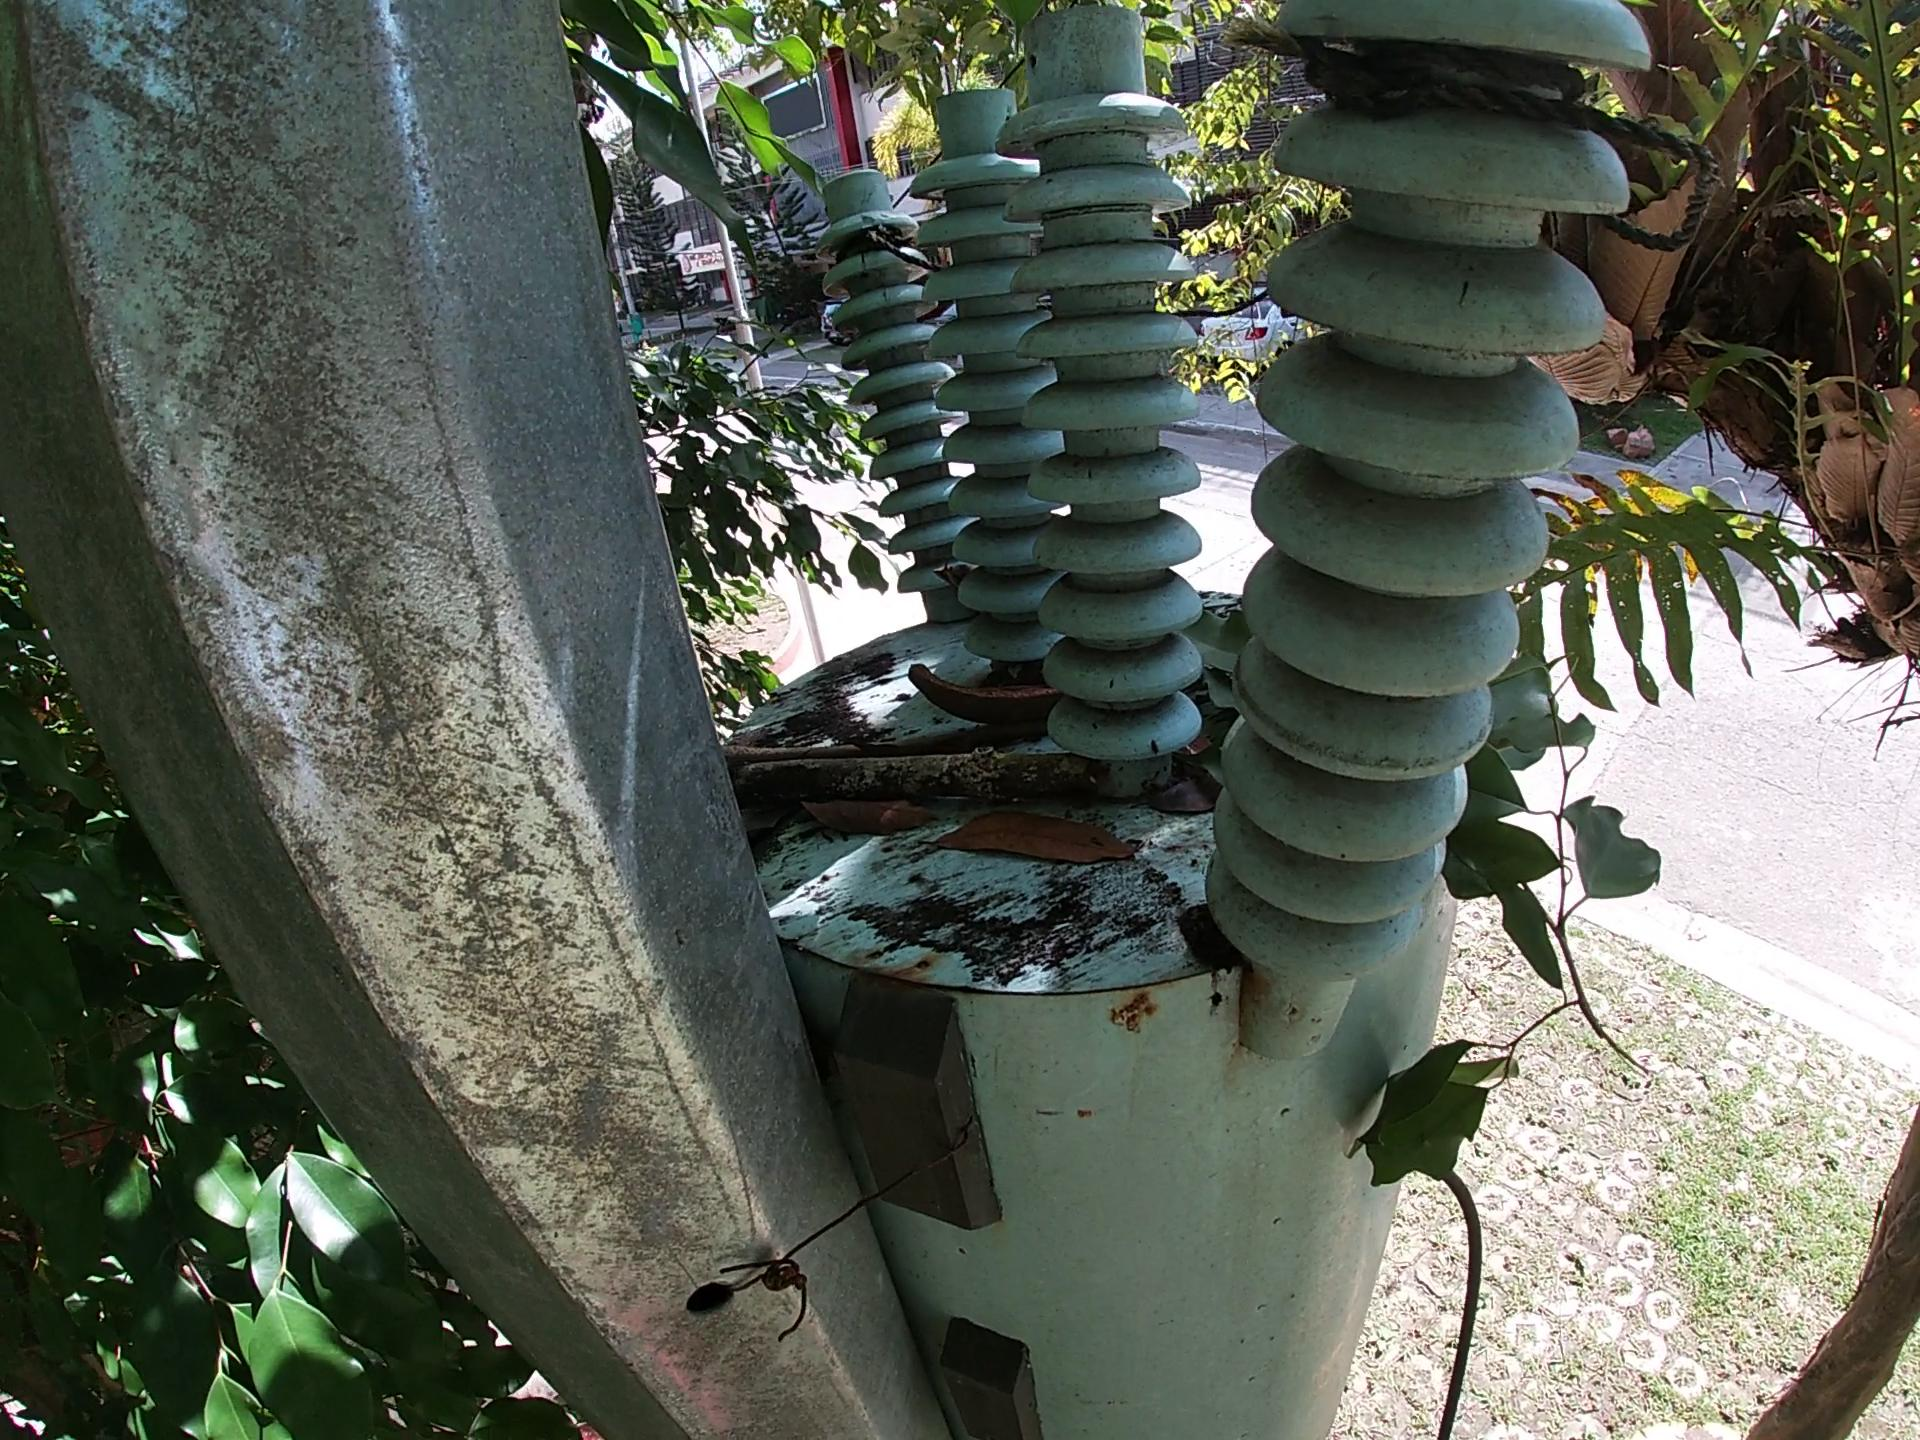branch with leaves: (1349, 650, 1666, 1201)
leaf: (1184, 601, 1250, 774), (931, 811, 1129, 867), (798, 799, 921, 833)
mahogany fruit: (906, 659, 1064, 729)
tree branch: (751, 761, 1101, 793), (714, 738, 948, 758)
